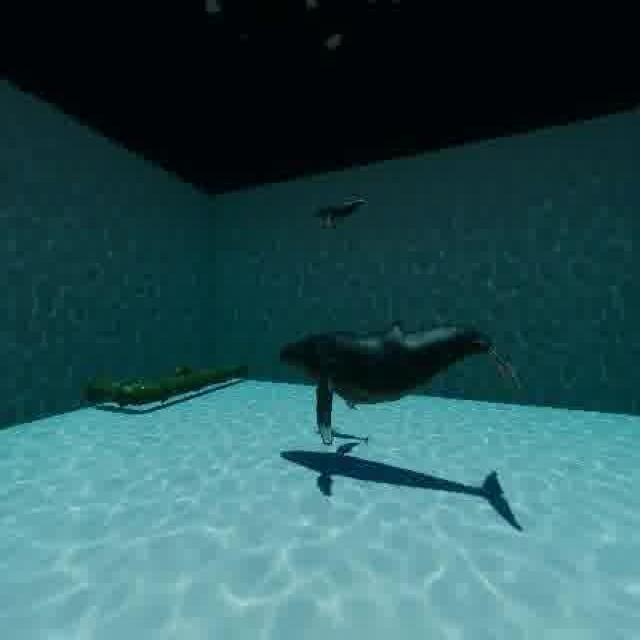Pipe: (82, 351, 261, 418)
Whale: (273, 308, 530, 458), (293, 176, 381, 244)
